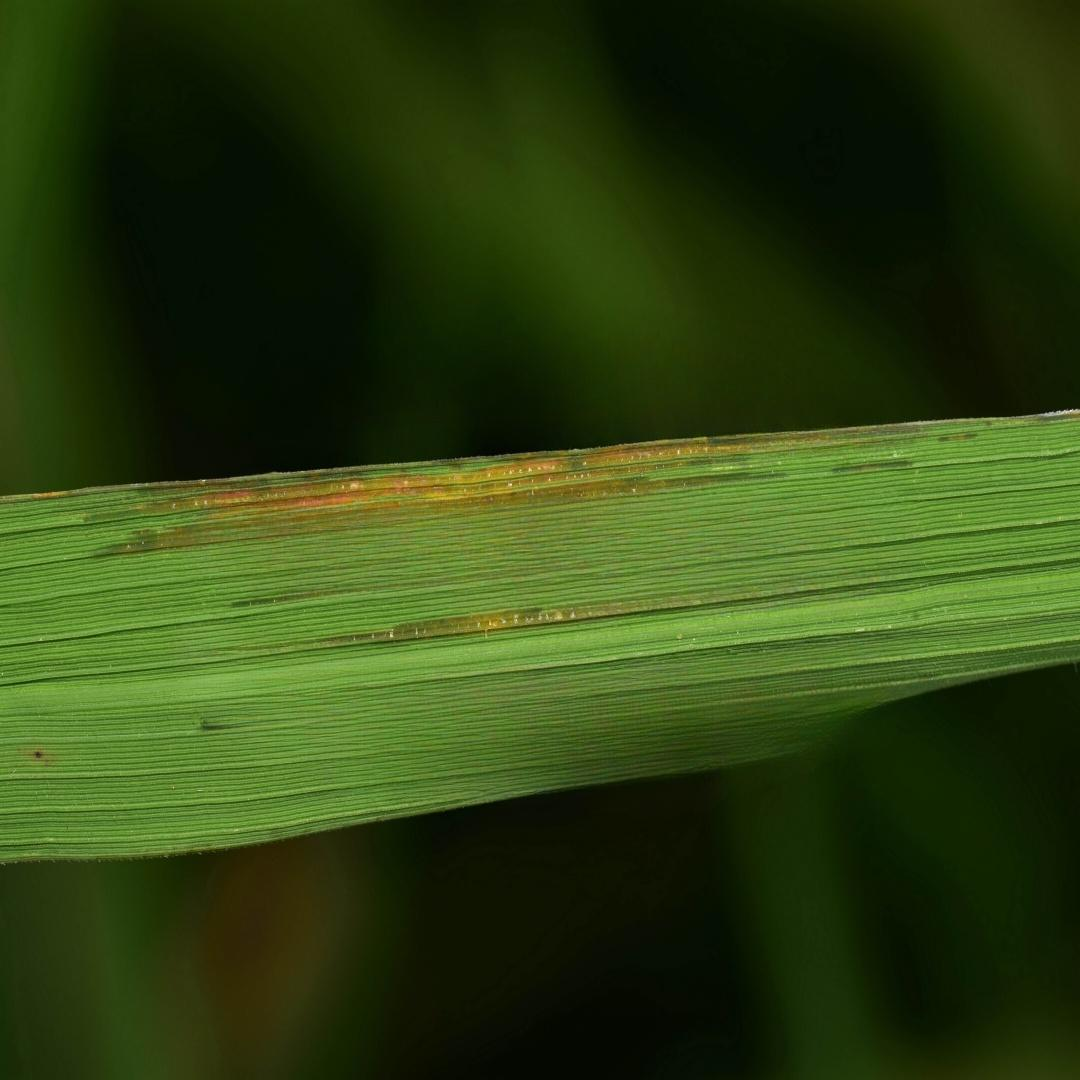BLS: (0, 411, 1079, 559), (317, 588, 827, 646), (231, 563, 598, 606), (831, 460, 914, 475), (937, 432, 979, 443)
LEAF: (0, 411, 1079, 861)
